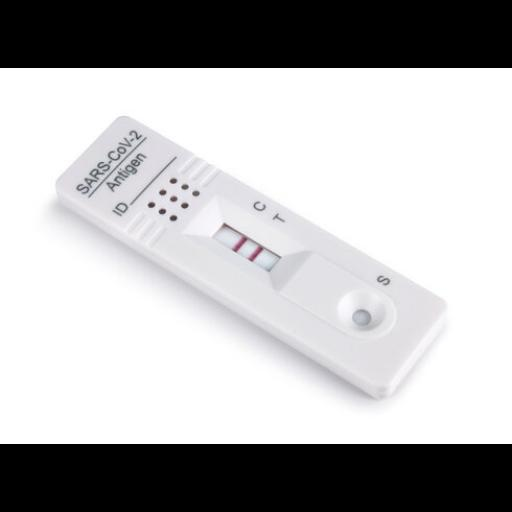Pos: (50, 110, 452, 391)
